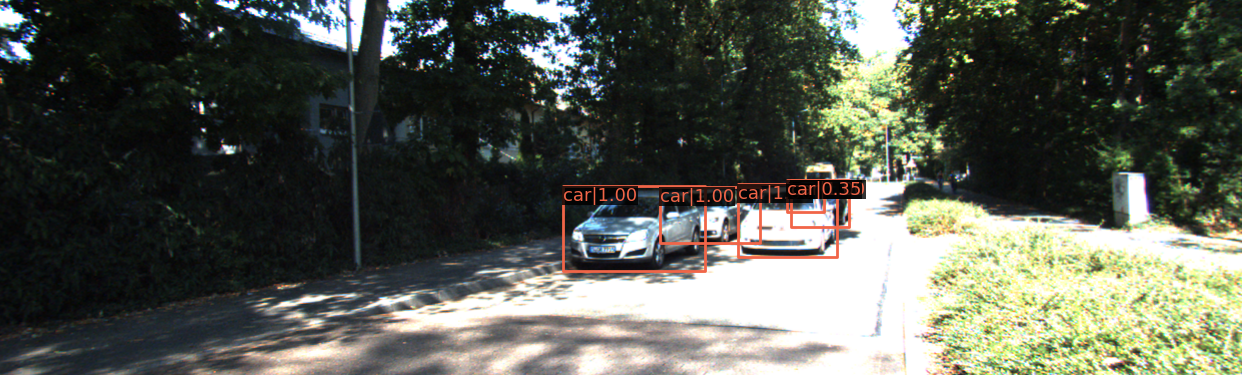car: (563, 188, 699, 275), (735, 186, 838, 260), (653, 187, 751, 246), (792, 182, 851, 228), (728, 186, 784, 226), (788, 180, 822, 208)
